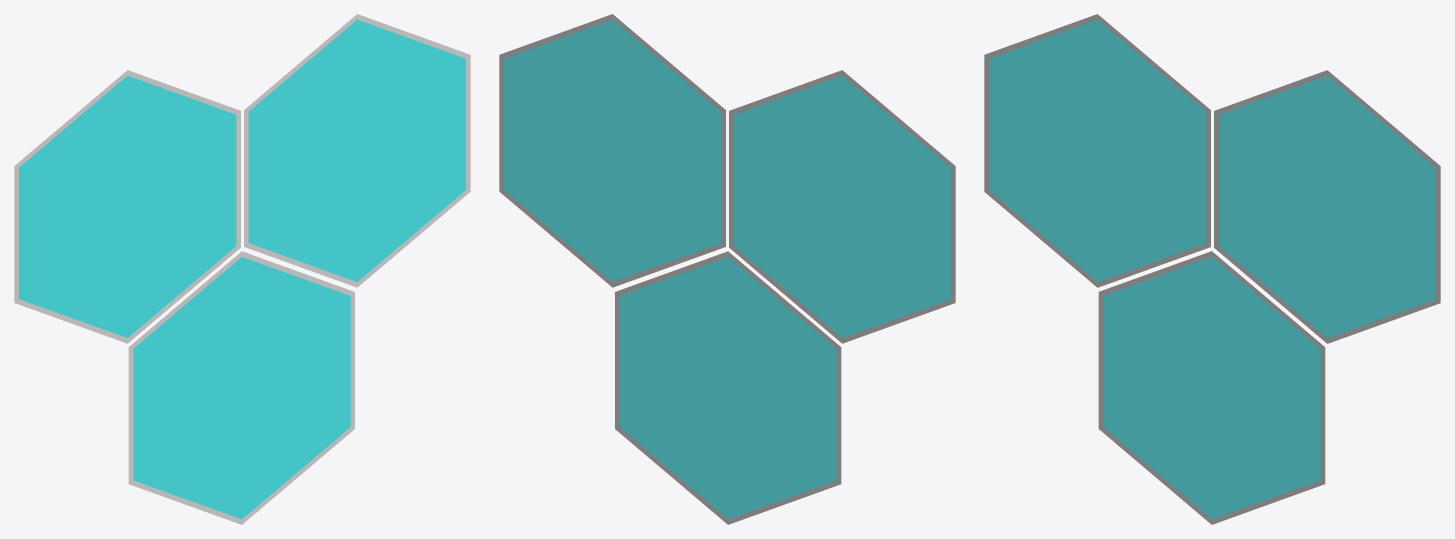
The model's file is Shield.glb.
The picture shows the model from 3 angles, left to right: view 1: azimuth 30°, elevation 25°; view 2: azimuth 150°, elevation 25°; view 3: azimuth 330°, elevation 25°; orthographic projection.
Parts seen in each view (by area): view 1: Shield1.002, Shield1.004, Shield1, Shield1.001, Shield1.005, Shield1.003; view 2: Shield1.002, Shield1.004, Shield1, Shield1.001, Shield1.005, Shield1.003; view 3: Shield1, Shield1.004, Shield1.002, Shield1.001, Shield1.003, Shield1.005.
Part boxes in pixels (left/top/right/bottom): Shield1.002: left=248, top=19, right=465, bottom=281; Shield1.004: left=19, top=75, right=236, bottom=337; Shield1: left=133, top=257, right=350, bottom=519; Shield1.001: left=128, top=251, right=354, bottom=524; Shield1.005: left=14, top=70, right=240, bottom=343; Shield1.003: left=244, top=14, right=470, bottom=287; Shield1.002: left=504, top=19, right=721, bottom=281; Shield1.004: left=733, top=75, right=950, bottom=337; Shield1: left=619, top=257, right=836, bottom=519; Shield1.001: left=615, top=251, right=841, bottom=524; Shield1.005: left=729, top=70, right=955, bottom=343; Shield1.003: left=499, top=14, right=725, bottom=287; Shield1: left=1103, top=256, right=1320, bottom=519; Shield1.004: left=989, top=19, right=1206, bottom=282; Shield1.002: left=1218, top=75, right=1435, bottom=338; Shield1.001: left=1098, top=251, right=1325, bottom=524; Shield1.003: left=1214, top=70, right=1440, bottom=343; Shield1.005: left=984, top=14, right=1210, bottom=287.
Bounding box in the file's own units: 0.7856 × 0.7944 × 2.49e-08.
